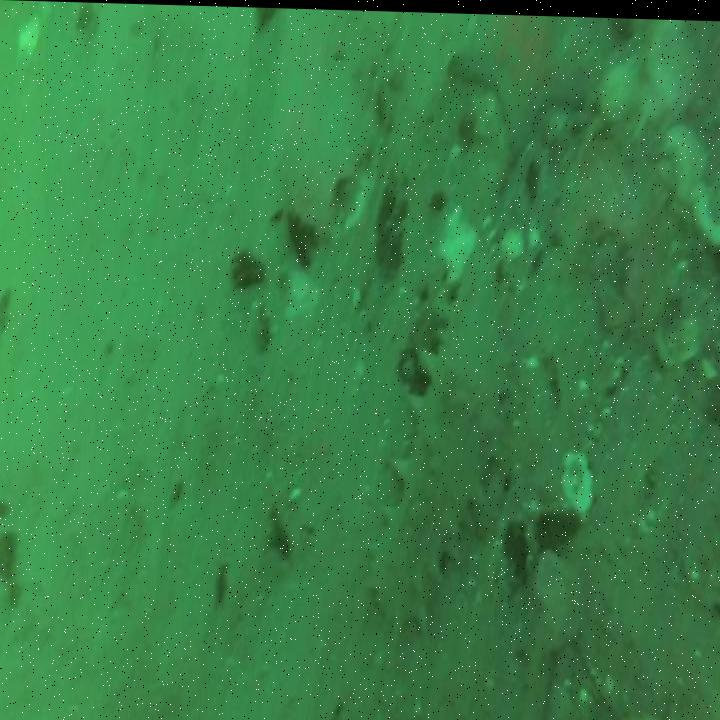holothurian: (368, 234, 513, 643)
starfish: (447, 14, 587, 150)
